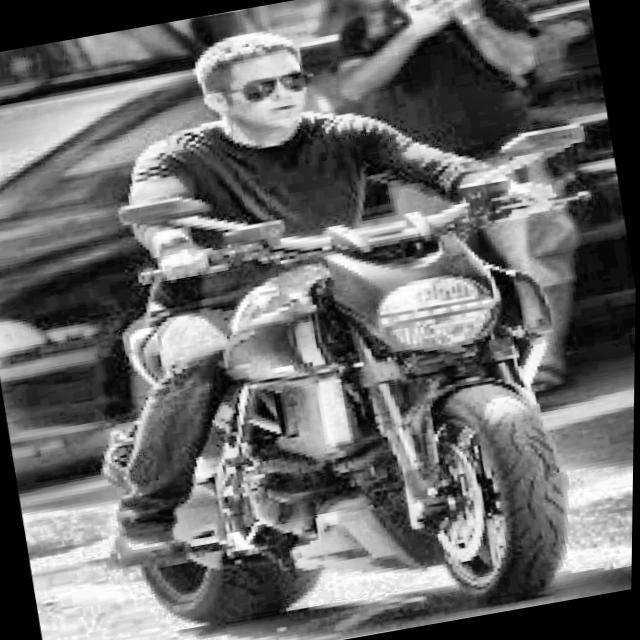motorcycle: (45, 106, 632, 640)
